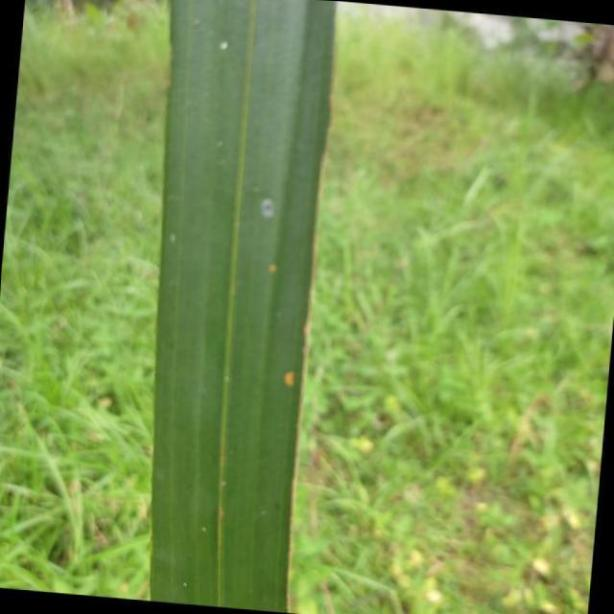Kalium: (154, 0, 338, 610)
